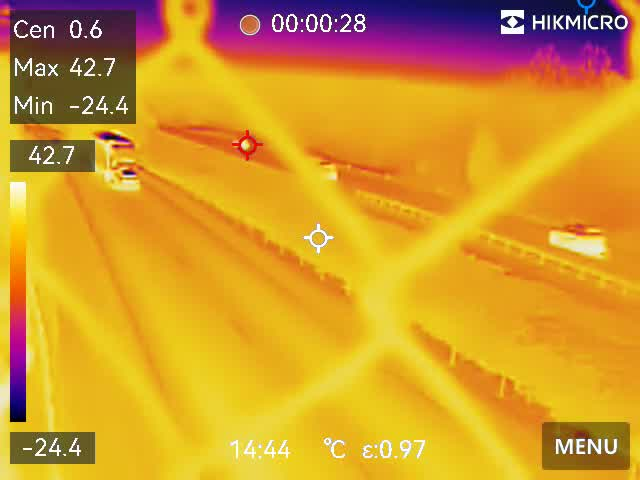heavyTruck: (87, 127, 140, 195)
vehicle: (537, 224, 607, 257), (301, 158, 341, 185)
